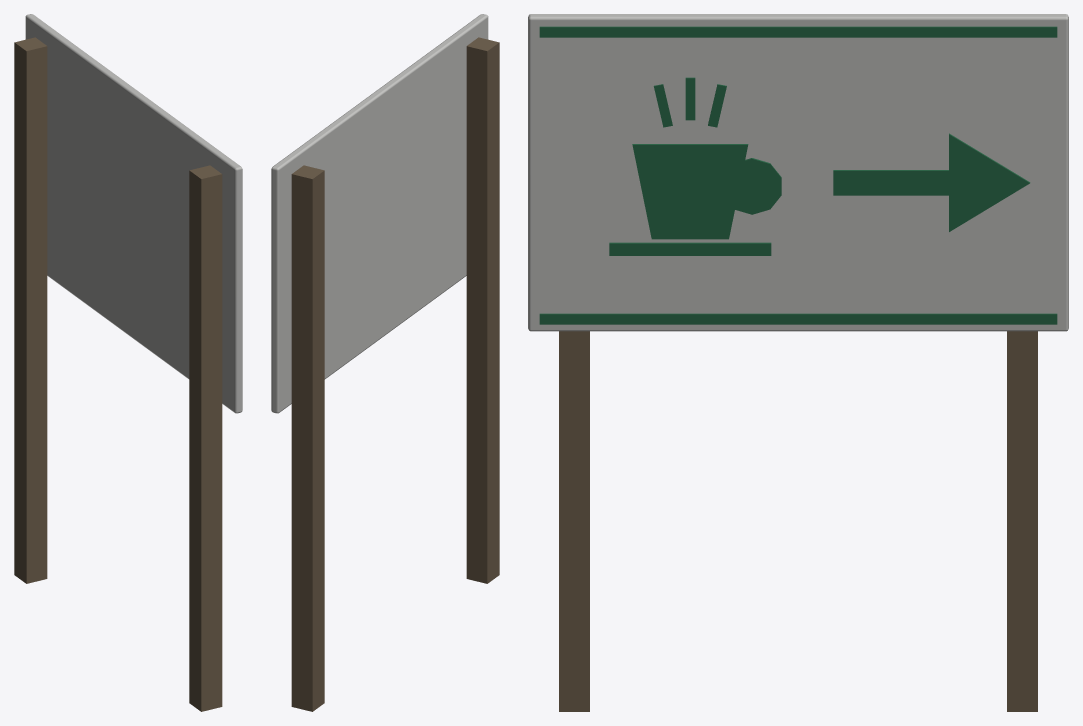
The model's file is SM_Prop_road_cafesign_1.glb.
The picture shows the model from 3 angles, left to right: view 1: azimuth 30°, elevation 25°; view 2: azimuth 150°, elevation 25°; view 3: azimuth 270°, elevation 25°; orthographic projection. The views are drawn at different scales.
Visible parts, largest first — view 1: SM_Prop_road_cafesign_1; view 2: SM_Prop_road_cafesign_1; view 3: SM_Prop_road_cafesign_1.
Part boxes in pixels (x1,y1,x2,y2): SM_Prop_road_cafesign_1: (14, 14, 242, 711); SM_Prop_road_cafesign_1: (271, 14, 499, 711); SM_Prop_road_cafesign_1: (528, 14, 1068, 711).
Size of the model in its own units: 0.122 by 2 by 1.4.
